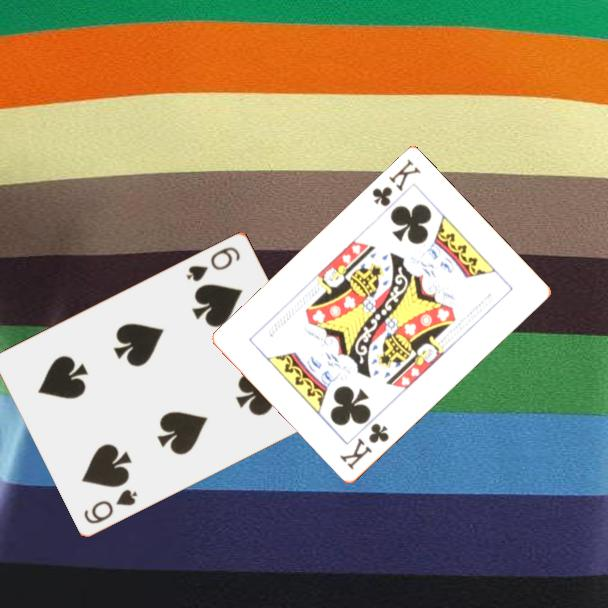c13: (368, 156, 424, 210), (336, 420, 392, 473)
s06: (80, 485, 141, 527), (182, 243, 243, 284)
